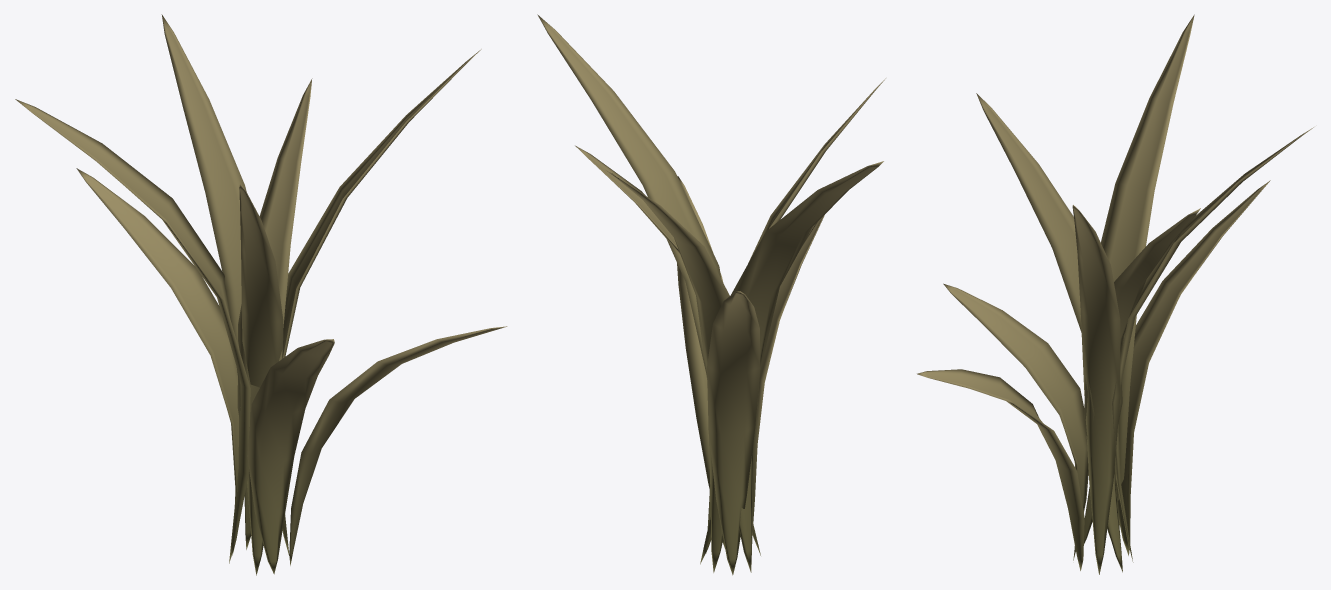
File: dry-tuft-0.glb
3 renders of one model, left to right at view 1: azimuth 30°, elevation 25°; view 2: azimuth 150°, elevation 25°; view 3: azimuth 270°, elevation 25°, orthographic. The views are drawn at different scales.
Visible parts, largest first — view 1: DryTuft0; view 2: DryTuft0; view 3: DryTuft0.
Part boxes in pixels (x1,y1,x2,y2): DryTuft0: [15, 14, 507, 575]; DryTuft0: [537, 14, 885, 575]; DryTuft0: [917, 14, 1313, 574].
Size of the model in its own units: 0.6655 by 0.7498 by 0.5957.
